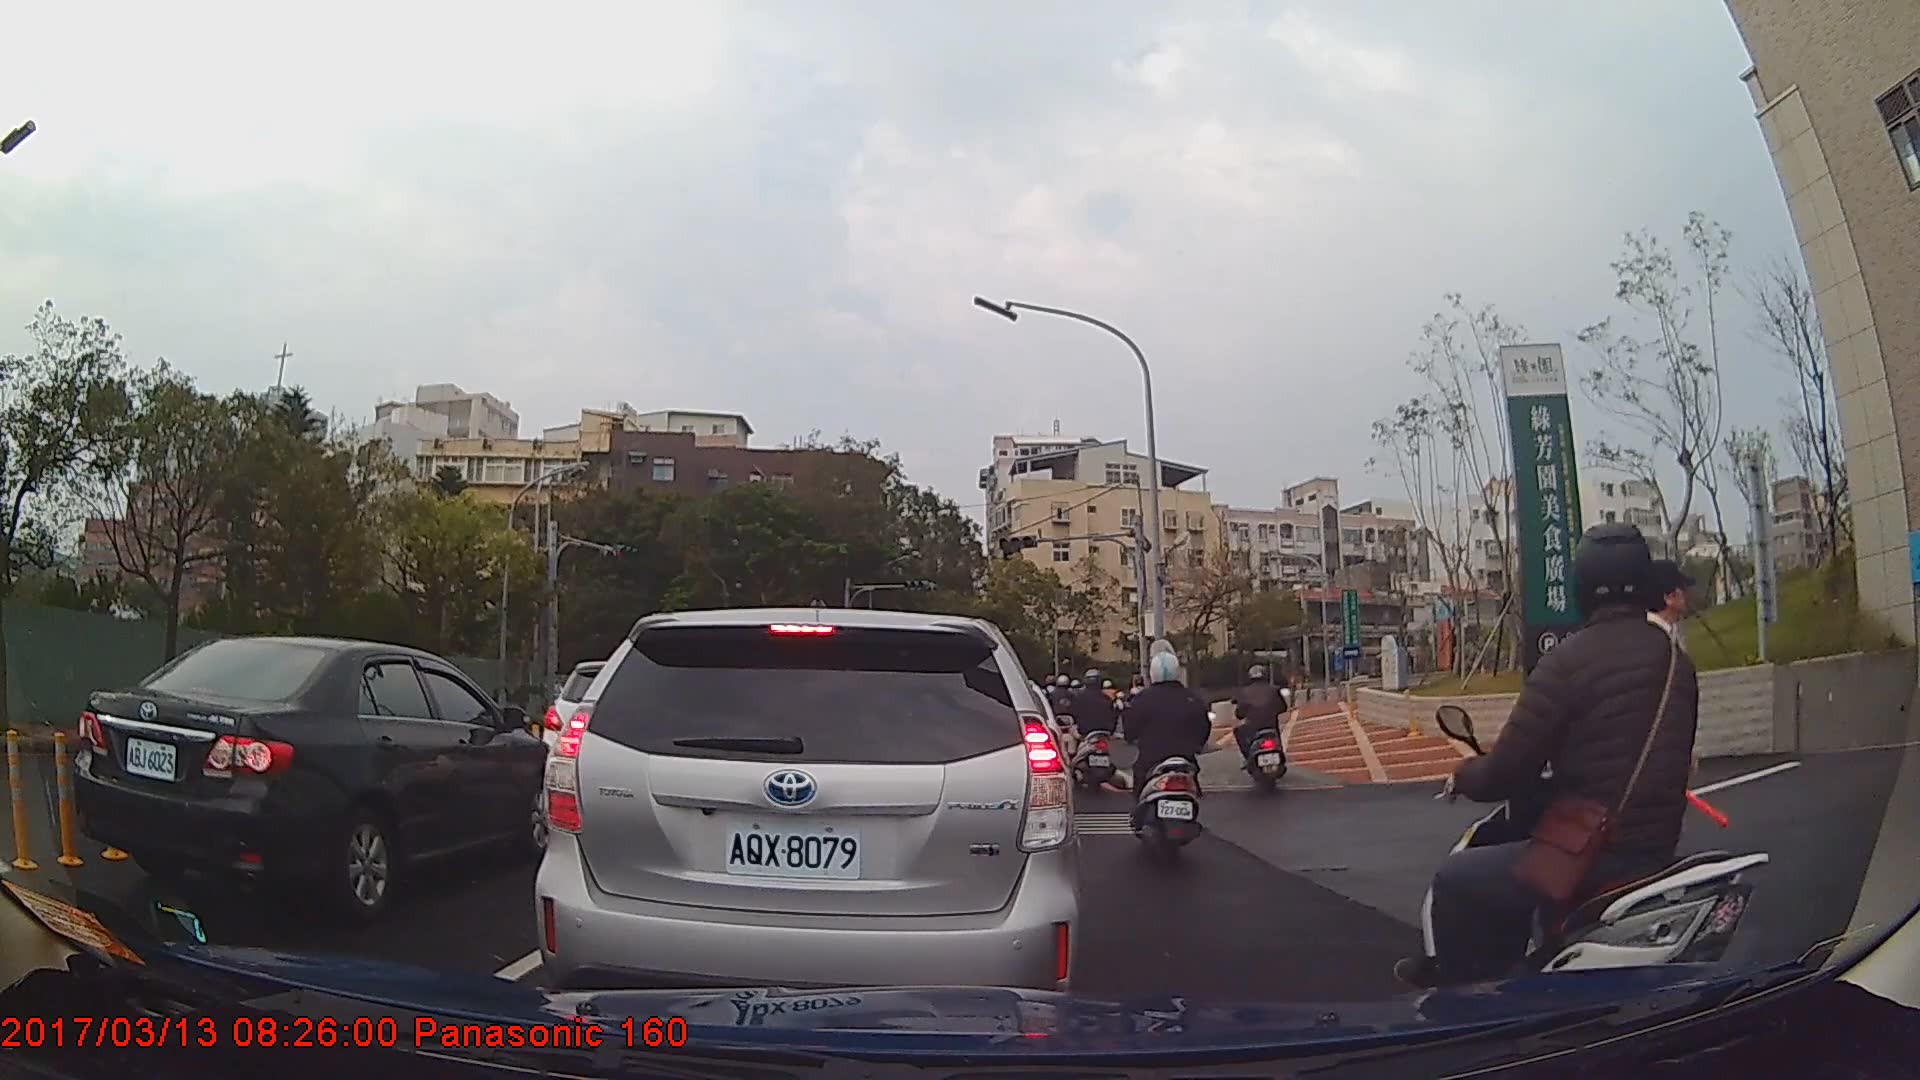rider: (1406, 519, 1771, 1051), (1123, 648, 1220, 873), (1231, 663, 1291, 790), (1069, 668, 1122, 796)
vehicle: (535, 604, 1082, 1042), (71, 633, 561, 922)
